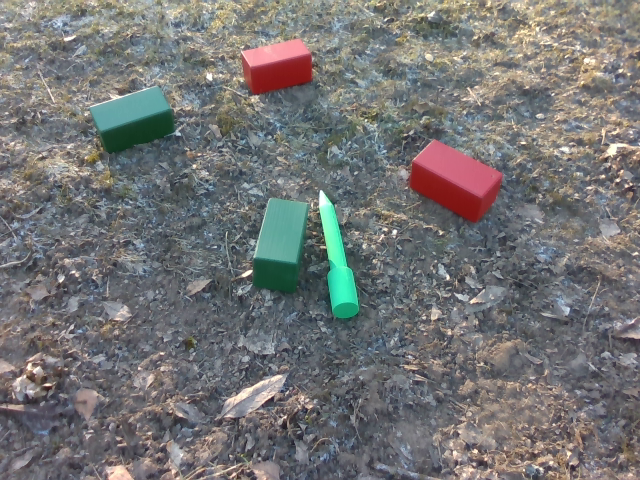Probe: (313, 186, 366, 322)
